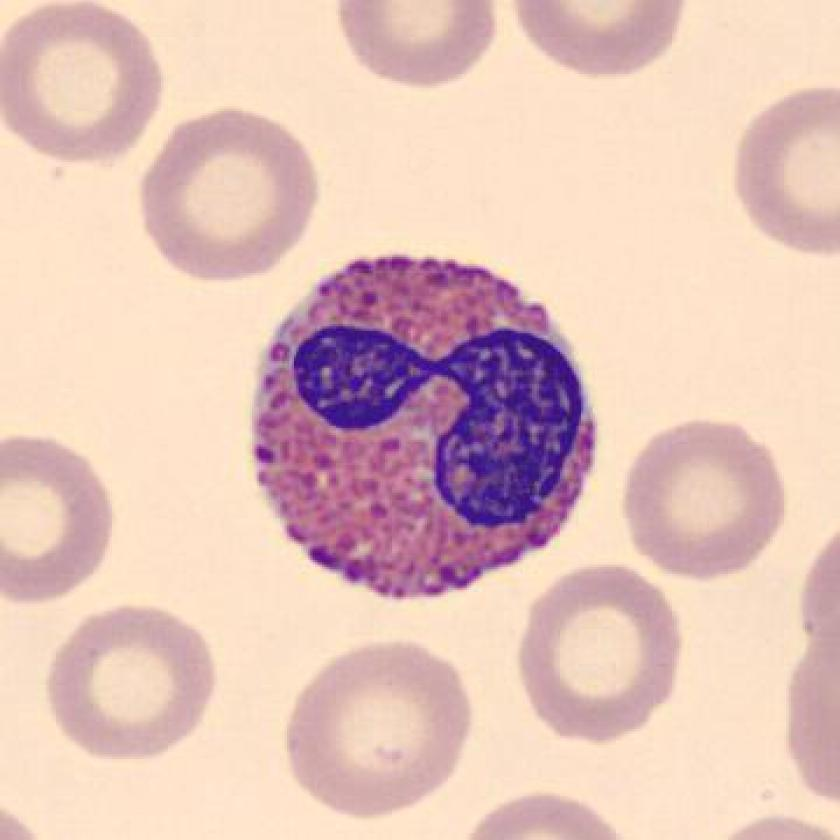eosinophil: (232, 237, 615, 612)
